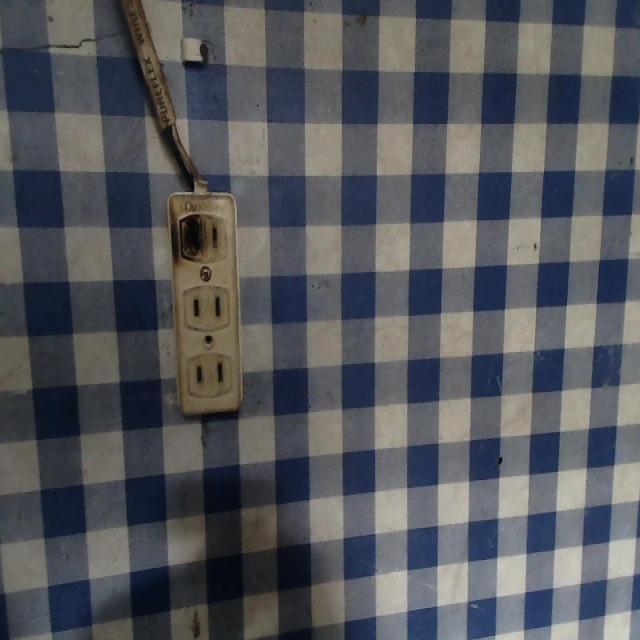-: (169, 208, 212, 271)
